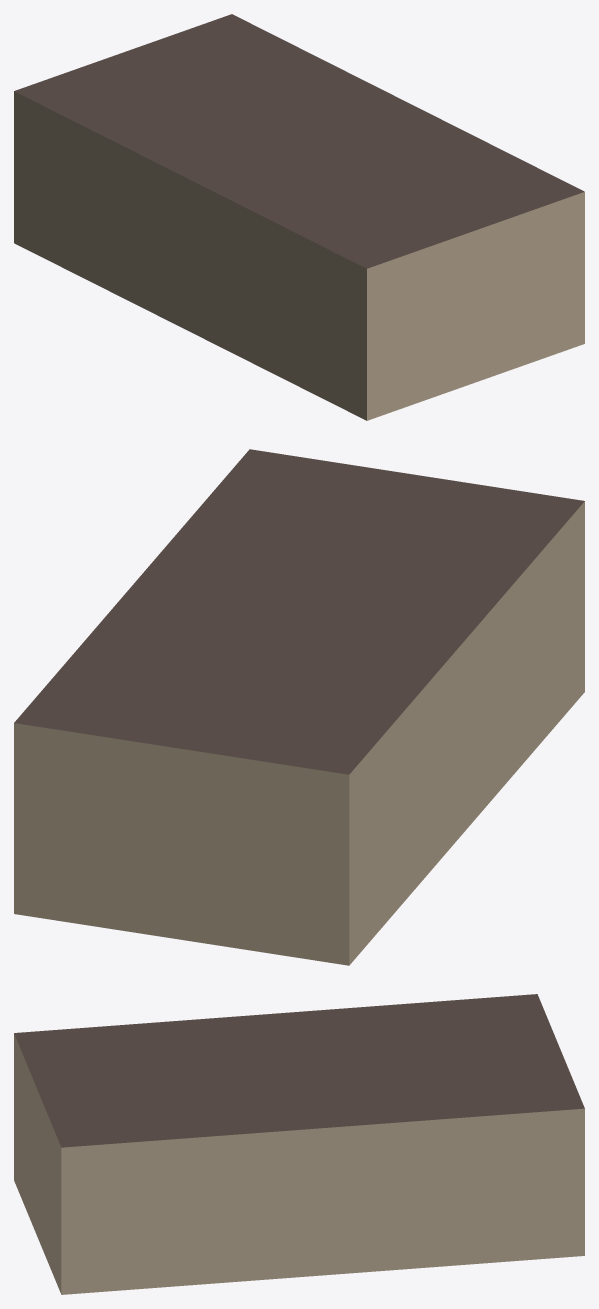
3 renders of one model, top to bottom at view 1: azimuth 30°, elevation 25°; view 2: azimuth 150°, elevation 25°; view 3: azimuth 270°, elevation 25°, orthographic. The views are drawn at different scales.
Parts seen in each view (by area): view 1: HP-w859424130; view 2: HP-w859424130; view 3: HP-w859424130.
Part boxes in pixels (x1,y1,x2,y2): HP-w859424130: [14, 14, 584, 420]; HP-w859424130: [14, 449, 584, 965]; HP-w859424130: [14, 994, 584, 1294].
Bounding box in the file's own units: 20.13 × 9 × 31.62.
